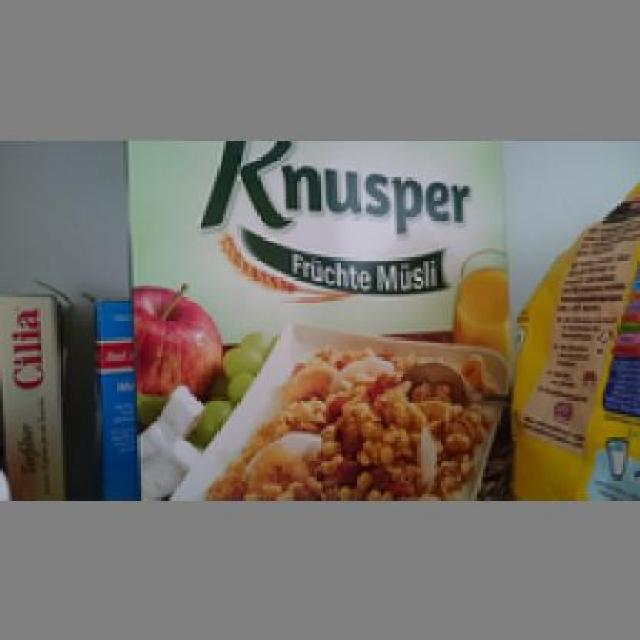Cereal: (122, 137, 518, 497)
